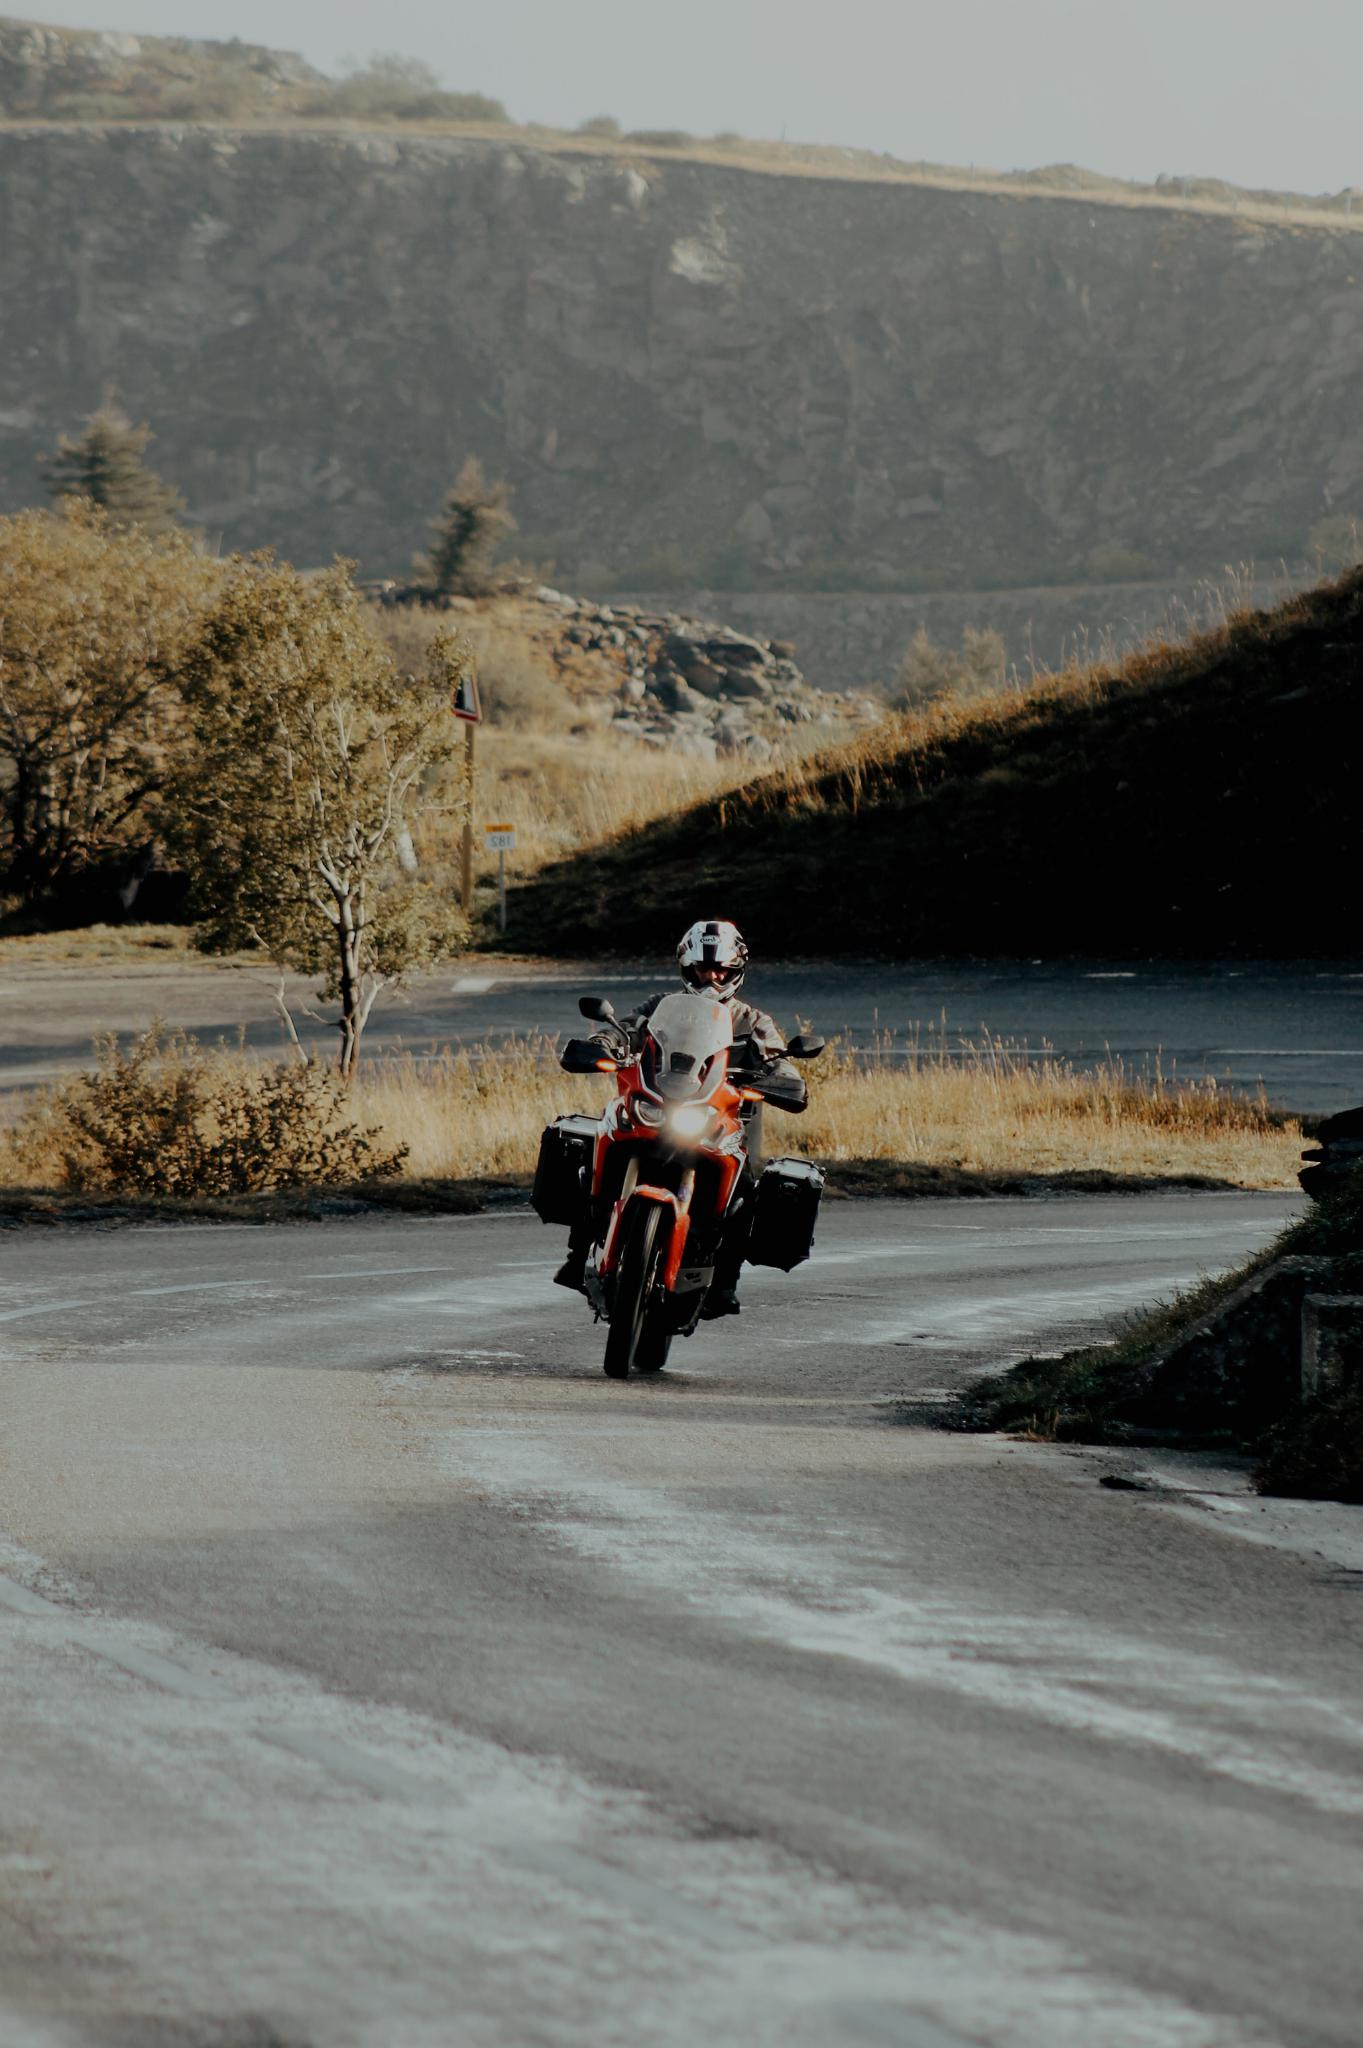motorcycle: (516, 949, 844, 1399)
